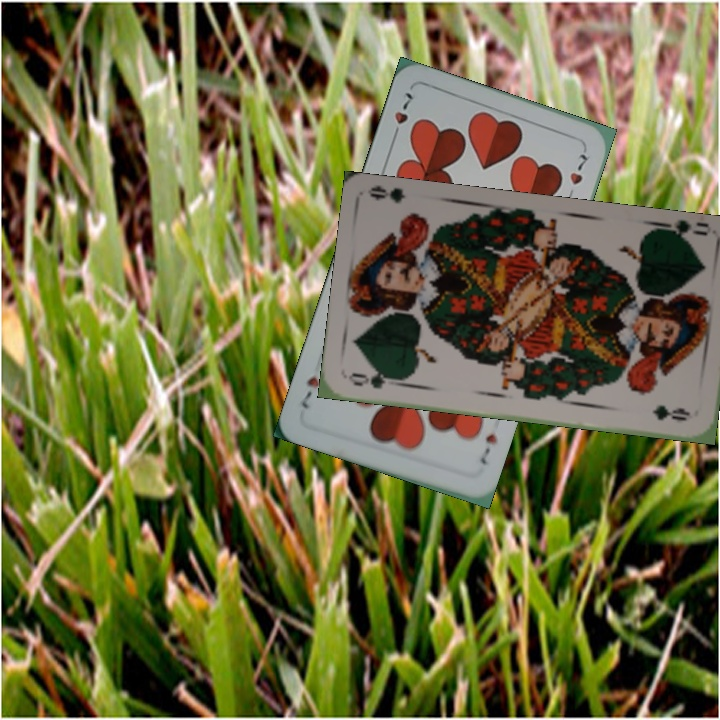GO: (655, 218, 710, 247), (345, 369, 404, 391)
H7: (387, 88, 416, 144), (476, 429, 500, 468)
